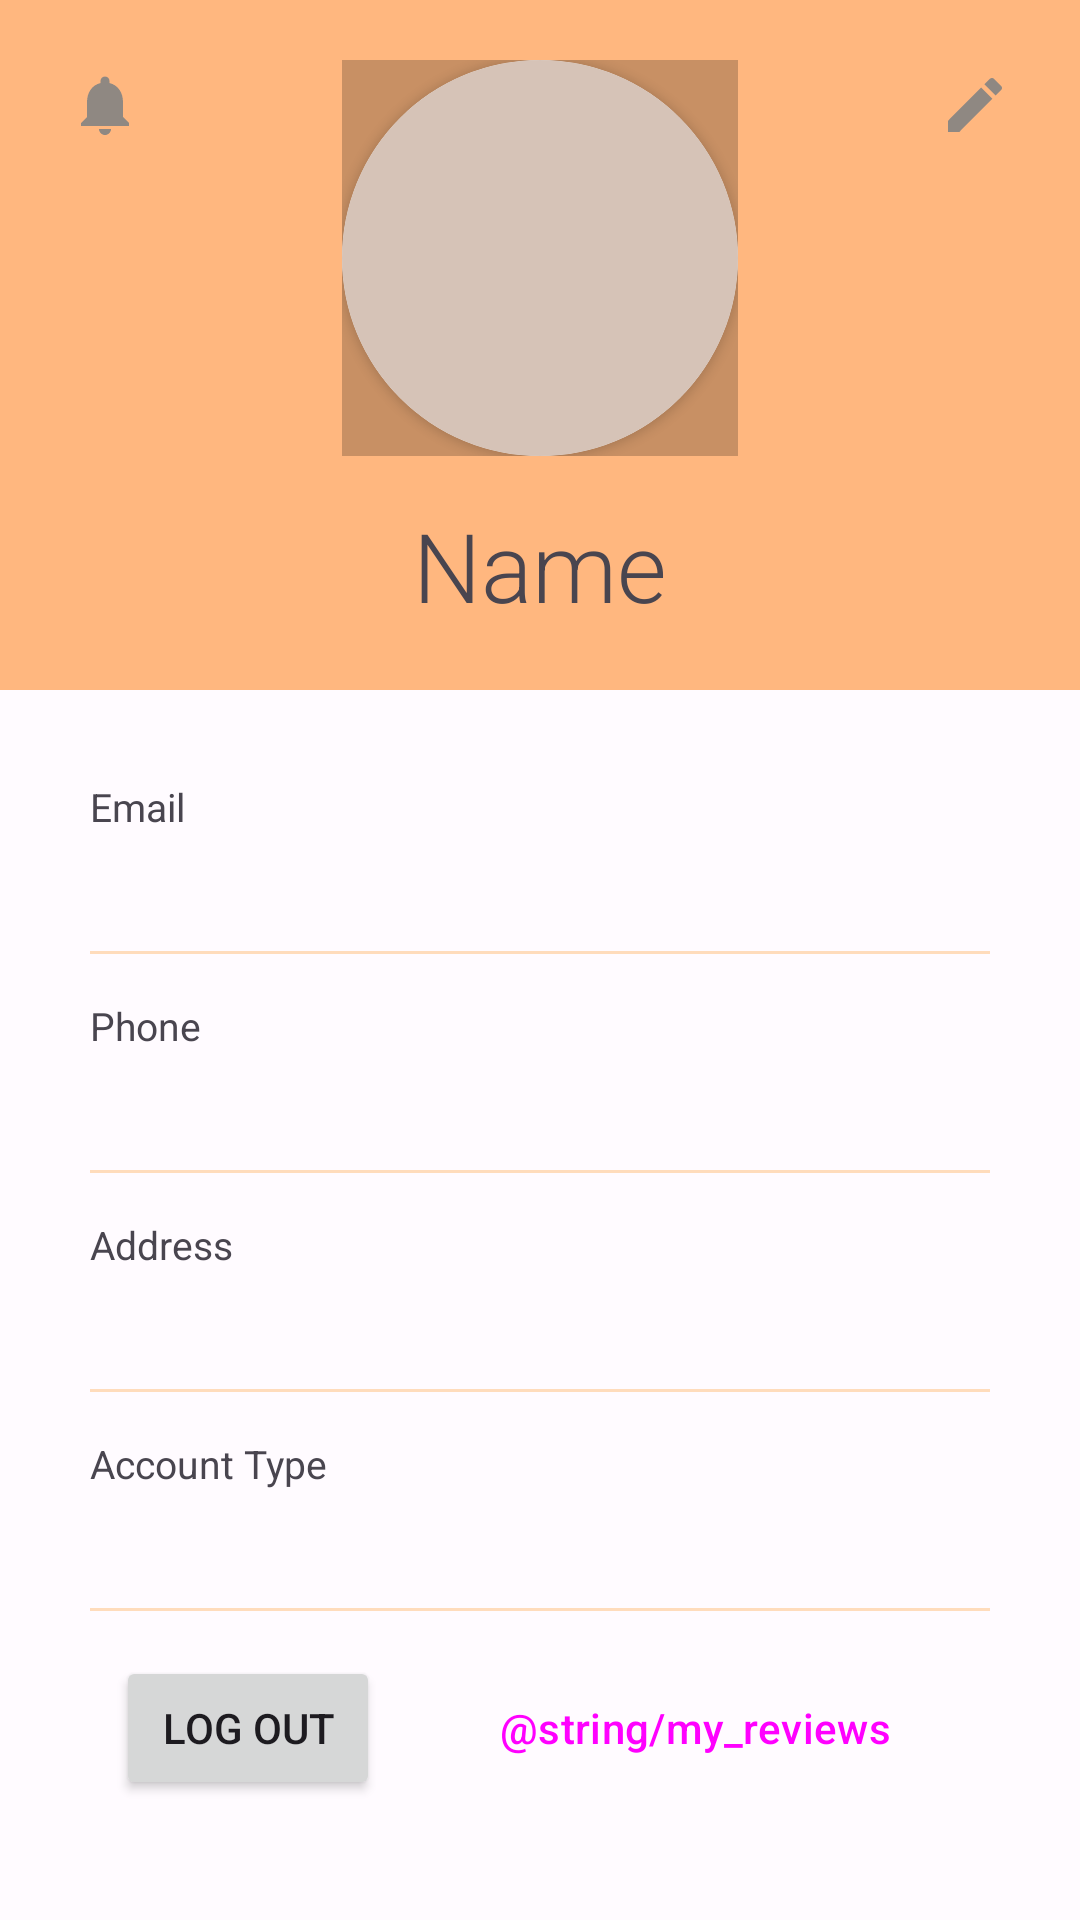

Screen size 1080*1920. Icon name, then its center in pixels as (x,y):
edit: (975,105)
notifications: (105,105)
